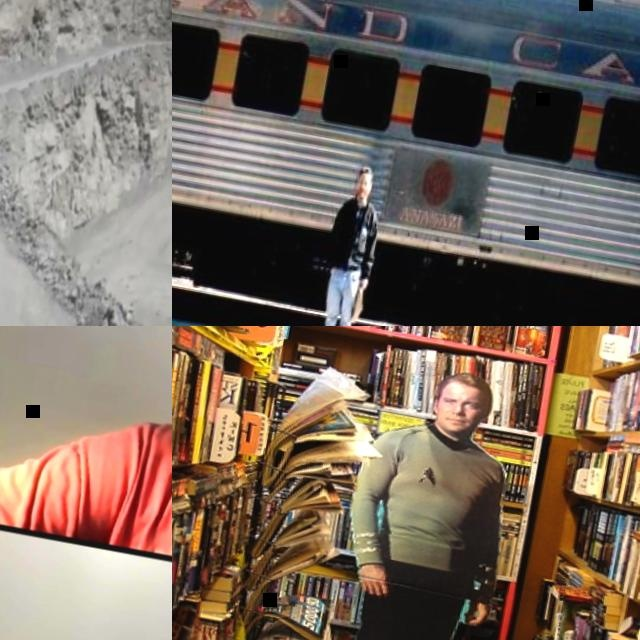NO-Hardhat: (359, 162, 376, 177)
NO-Mask: (356, 187, 368, 199)
NO-Safety Vest: (96, 409, 172, 606), (329, 198, 377, 273)
Person: (0, 326, 172, 630), (0, 537, 172, 640), (306, 158, 389, 326)
